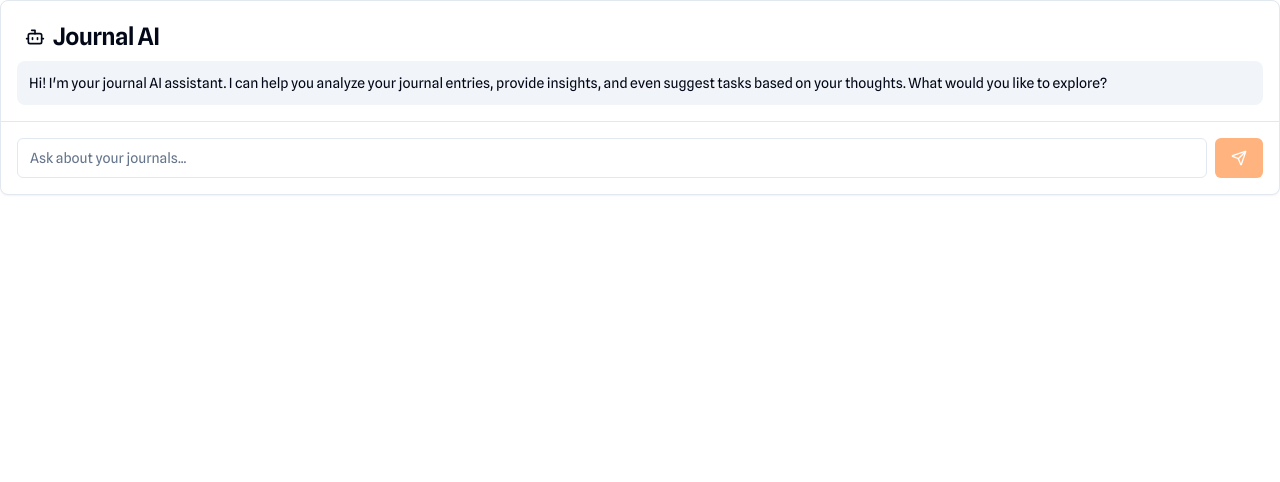
Test: JournalChat › shows suggested tasks if present in AI response
Type "Tasks?" into the field with placeholder "Ask about your journals..." at (612, 158), box [17, 138, 1207, 178]
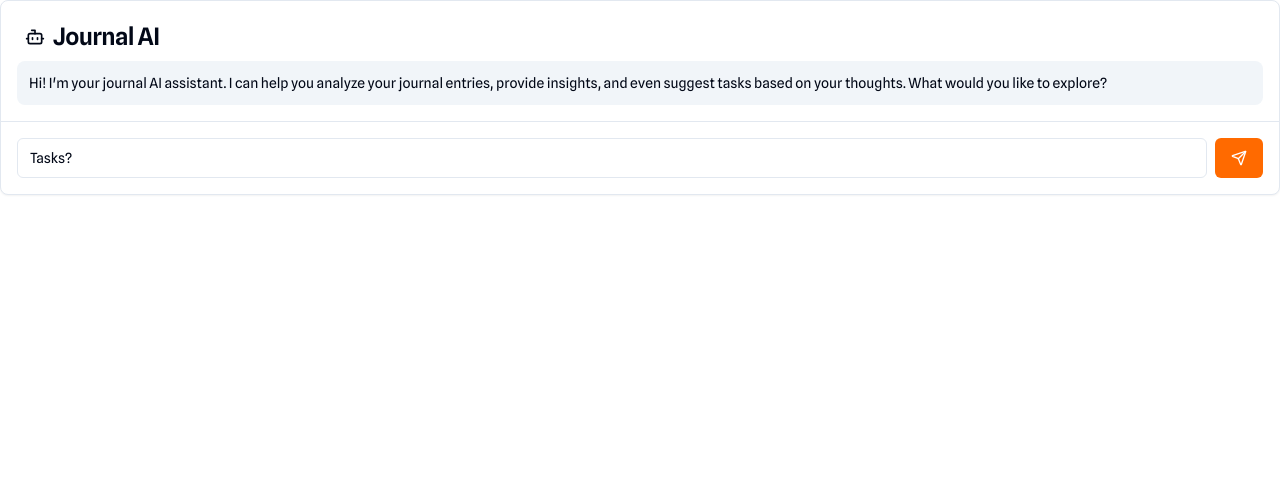
Click the button at (1239, 158), box [1215, 138, 1263, 178]
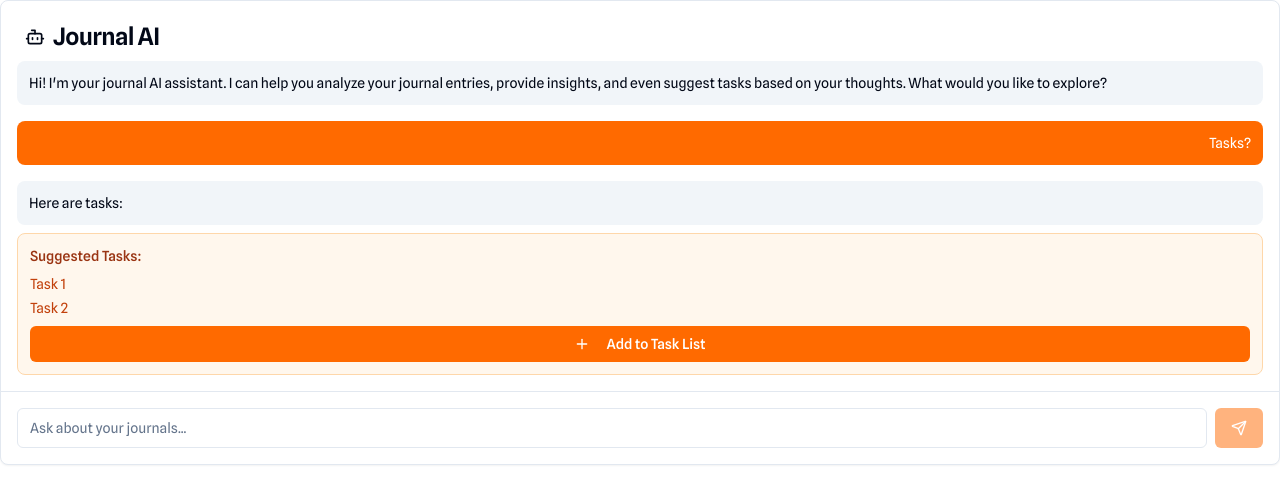
Result: the text "Task 1" is shown at [30, 274, 66, 294]
Result: the text "Task 2" is shown at [30, 298, 68, 318]
Result: the text "Suggested Tasks:" is shown at [30, 248, 141, 264]
